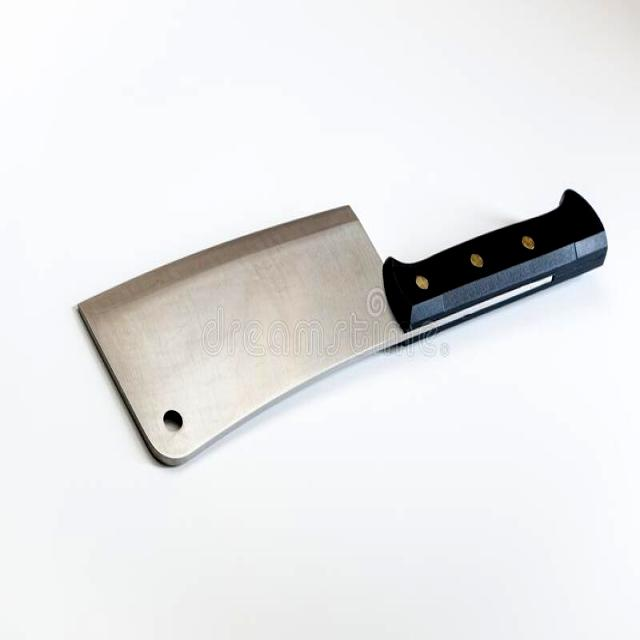cleaver: (68, 182, 613, 466)
